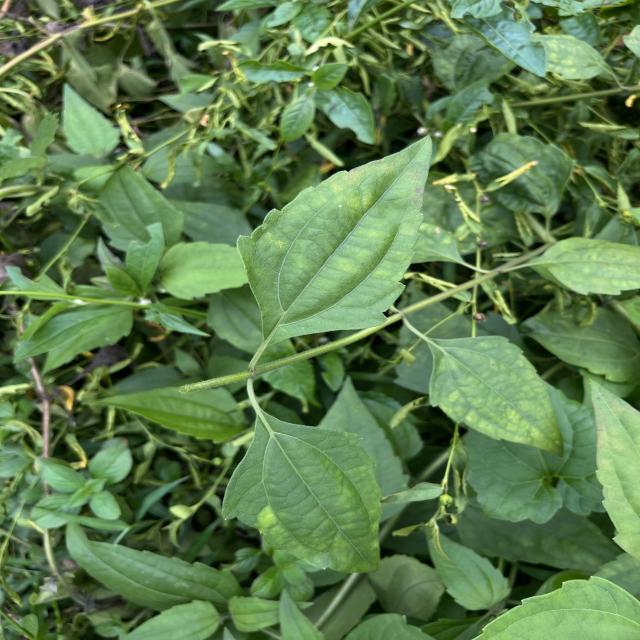Chromolaena odorata: (232, 130, 436, 347), (218, 400, 388, 578)
